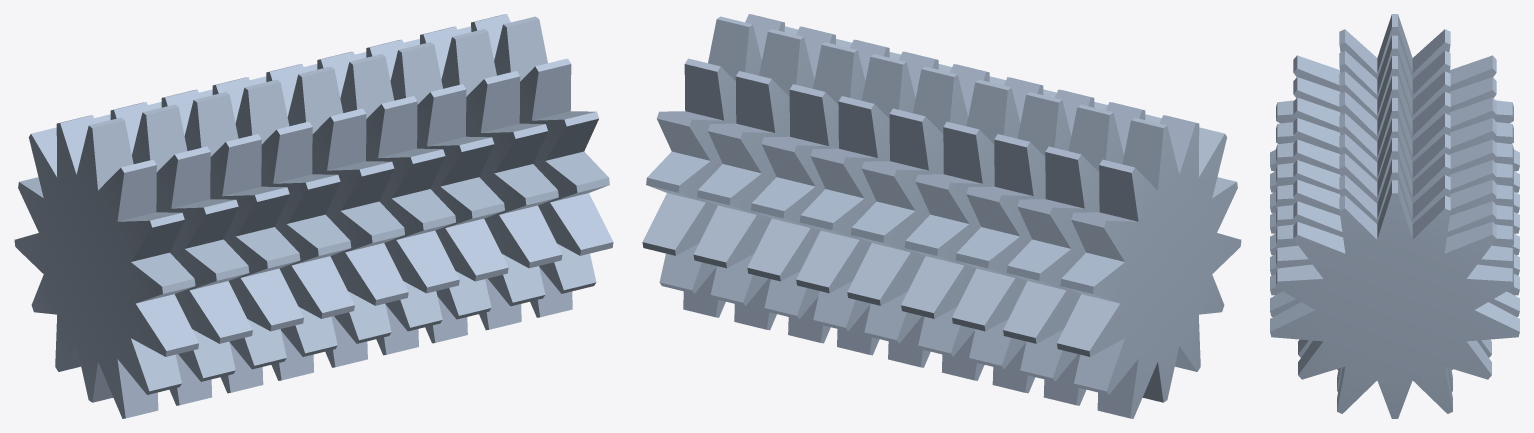
The model's file is SawBlades.fbx.
3 renders of one model, left to right at view 1: azimuth 30°, elevation 25°; view 2: azimuth 150°, elevation 25°; view 3: azimuth 270°, elevation 25°, orthographic. The views are drawn at different scales.
Parts seen in each view (by area): view 1: pCylinder10; view 2: pCylinder10; view 3: pCylinder10.
Part boxes in pixels (x1=…): pCylinder10: x1=14, y1=14, x2=613, y2=418; pCylinder10: x1=642, y1=14, x2=1241, y2=418; pCylinder10: x1=1270, y1=14, x2=1519, y2=418.
Bounding box in the file's own units: 1.33 × 0.767 × 0.77.
